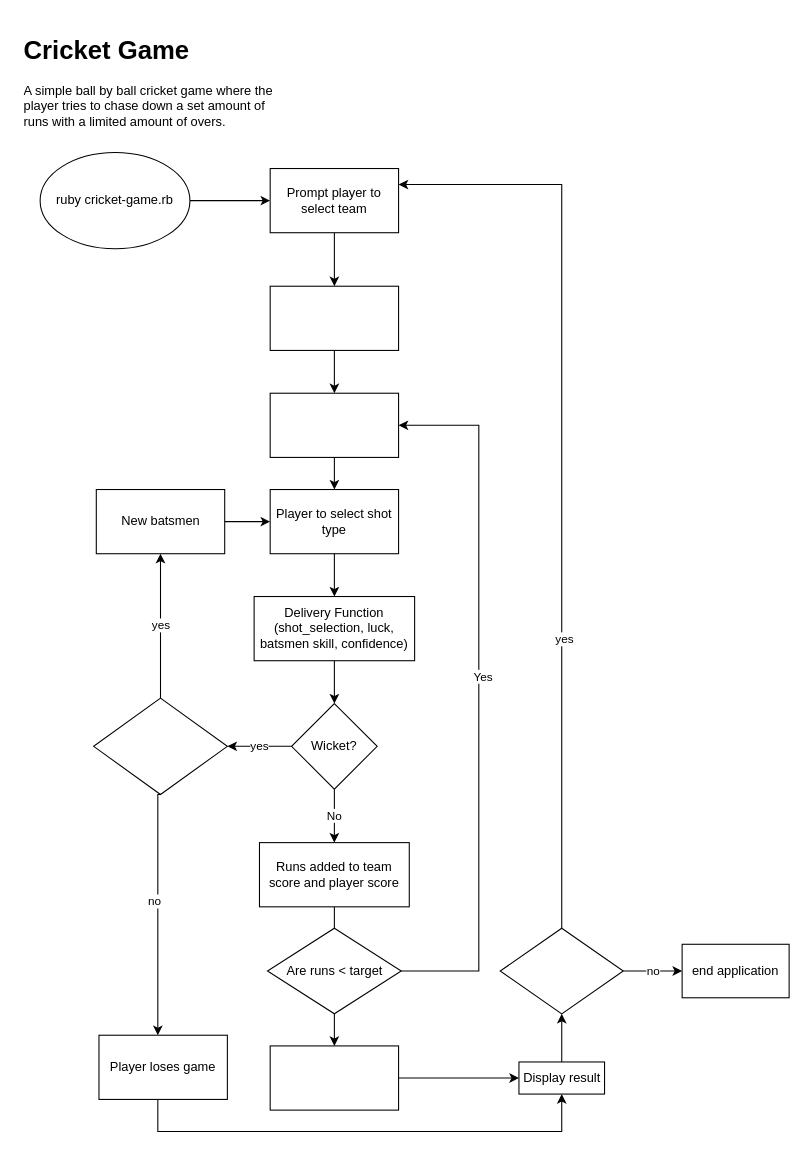
Some shapes in this 808 by 1159 pixel diagram are drawn without their labels. Here are the shapes that lost their labels. From the top down, the box of each, then its label:
(269, 285, 399, 350): Start game with team selected by user
(269, 392, 399, 457): Bowler bowls ball
(93, 697, 227, 794): Are wickets < 10
(499, 927, 623, 1014): New game?
(269, 1045, 399, 1110): Player wins game
